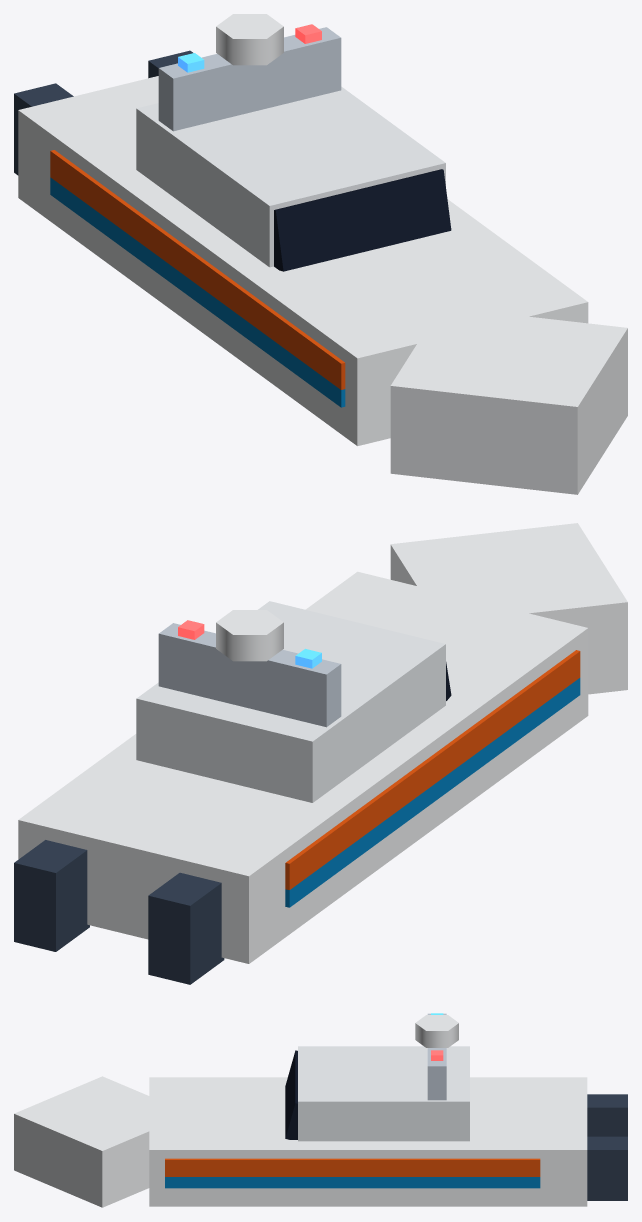
Rendered from vehicle_boat.glb.
3 renders of one model, top to bottom at view 1: azimuth 30°, elevation 25°; view 2: azimuth 150°, elevation 25°; view 3: azimuth 270°, elevation 25°, orthographic. The views are drawn at different scales.
Parts seen in each view (by area): view 1: VehicleBoat; view 2: VehicleBoat; view 3: VehicleBoat.
Boxes of the visible parts, x1,y1,x2,y2 form: VehicleBoat: (14,14,627,494); VehicleBoat: (14,523,627,984); VehicleBoat: (14,1013,627,1207).
Size of the model in its own units: 0.57 by 0.53 by 1.96.
